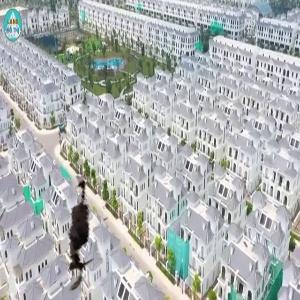drone: (15, 161, 145, 291)
